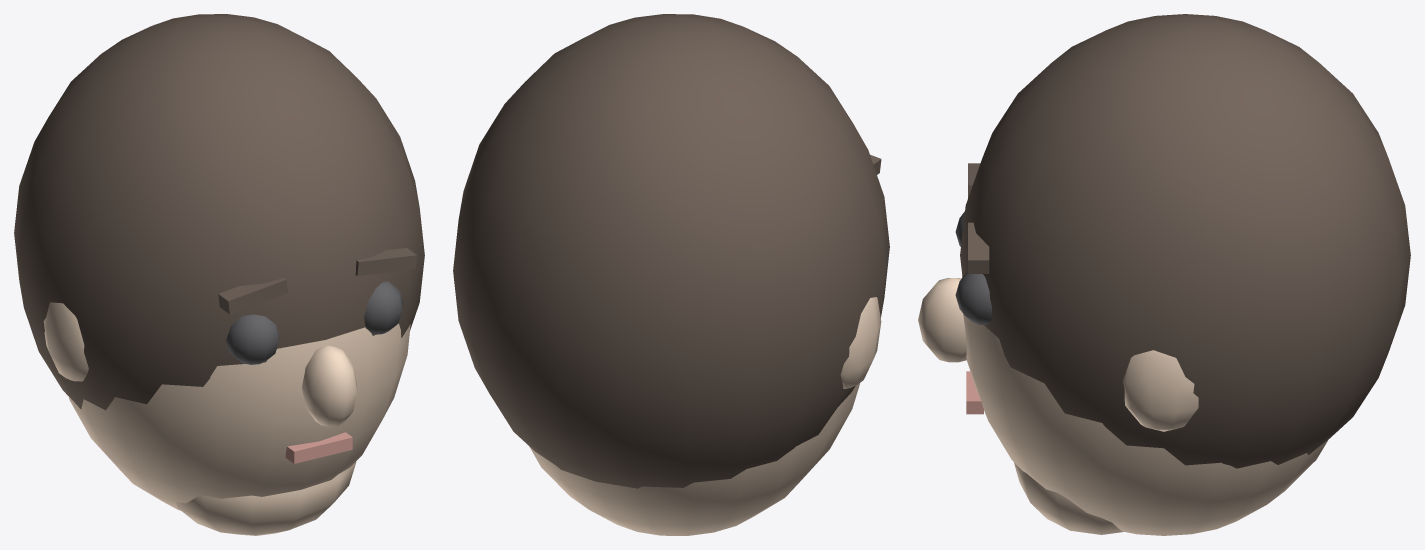
Rendered from crew__head.fbx.
3 renders of one model, left to right at view 1: azimuth 30°, elevation 25°; view 2: azimuth 150°, elevation 25°; view 3: azimuth 270°, elevation 25°, orthographic. The views are drawn at different scales.
Parts seen in each view (by area): view 1: crew__head; view 2: crew__head; view 3: crew__head.
Part boxes in pixels (x1,y1,x2,y2): crew__head: (14, 14, 424, 535); crew__head: (453, 14, 889, 535); crew__head: (918, 14, 1410, 535).
Size of the model in its own units: 0.2407 by 0.3046 by 0.2765.
